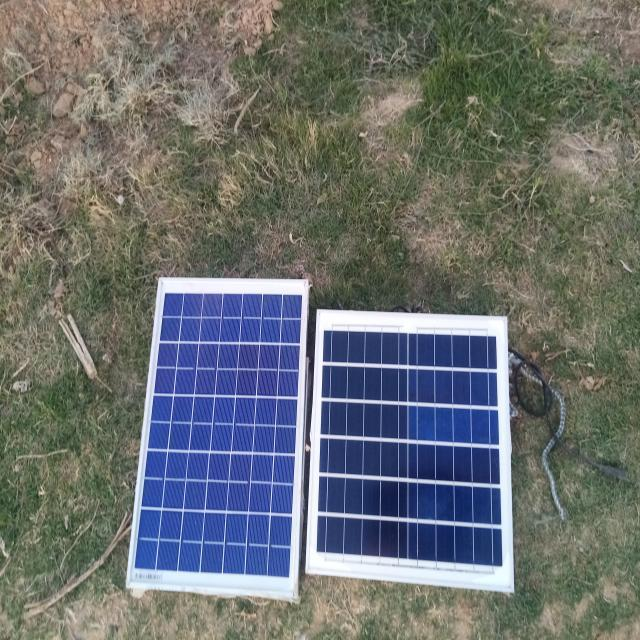Normal Solar Panel: (308, 312, 514, 593), (129, 278, 308, 597)
